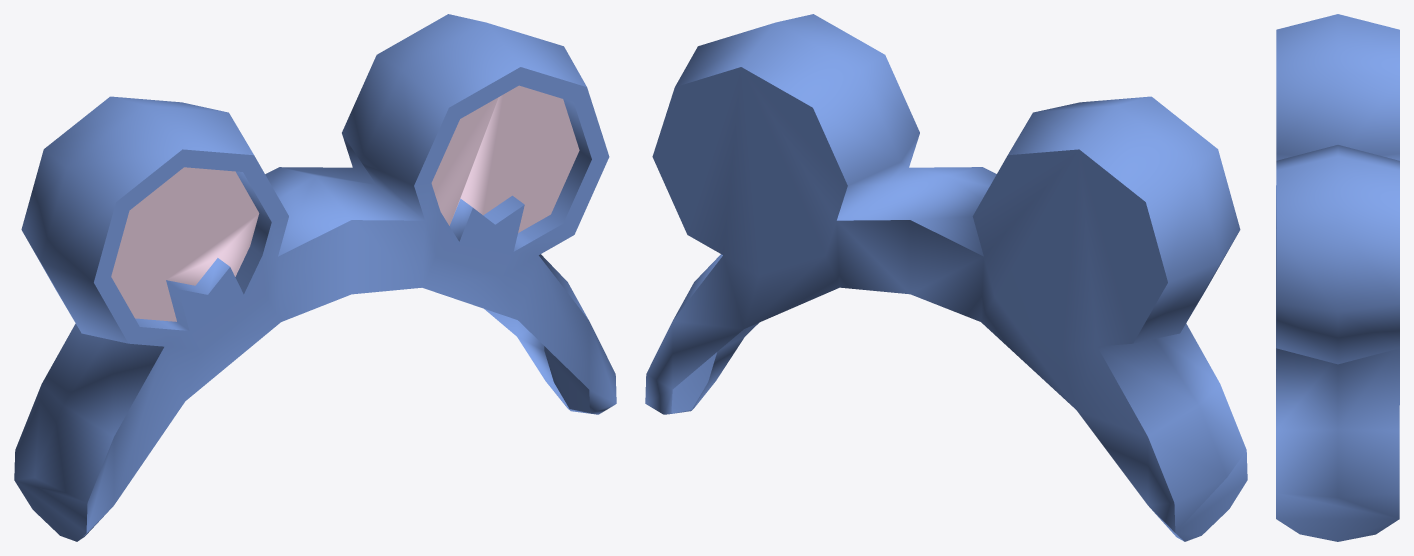
Rendered from Hat_Mouse.fbx.
3 views of the same model, side by side, from view 1: azimuth 30°, elevation 25°; view 2: azimuth 150°, elevation 25°; view 3: azimuth 270°, elevation 25° (orthographic). The views are drawn at different scales.
Visible parts, largest first — view 1: Mouse; view 2: Mouse; view 3: Mouse.
Boxes of the visible parts, x1=… form: Mouse: x1=14, y1=14, x2=616, y2=541; Mouse: x1=645, y1=14, x2=1247, y2=541; Mouse: x1=1276, y1=14, x2=1399, y2=541.
Size of the model in its own units: 107 by 74.63 by 23.9.
